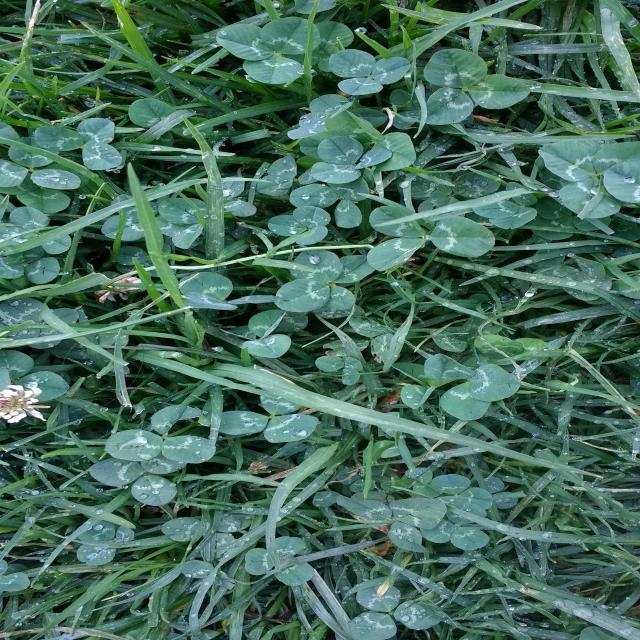Four Leaf Clover: (274, 249, 375, 312)
